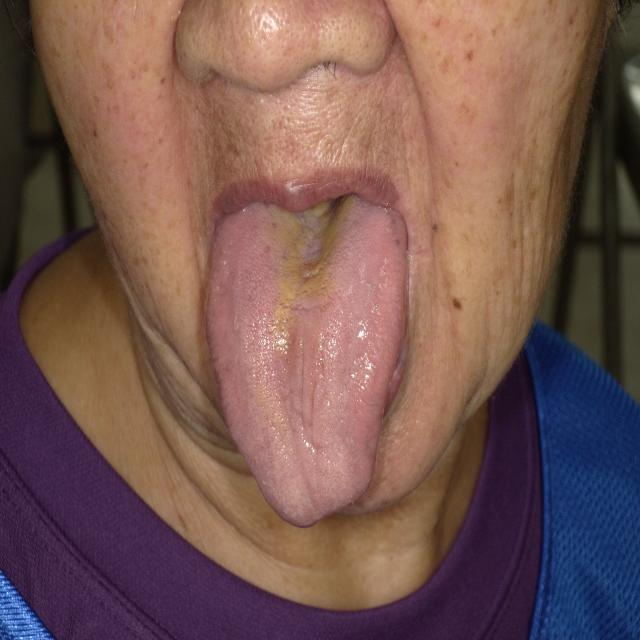baitaishe: (203, 193, 409, 528)
huangtaishe: (203, 193, 409, 528)
liewenshe: (284, 340, 321, 452)
shenquao: (254, 195, 357, 288)
